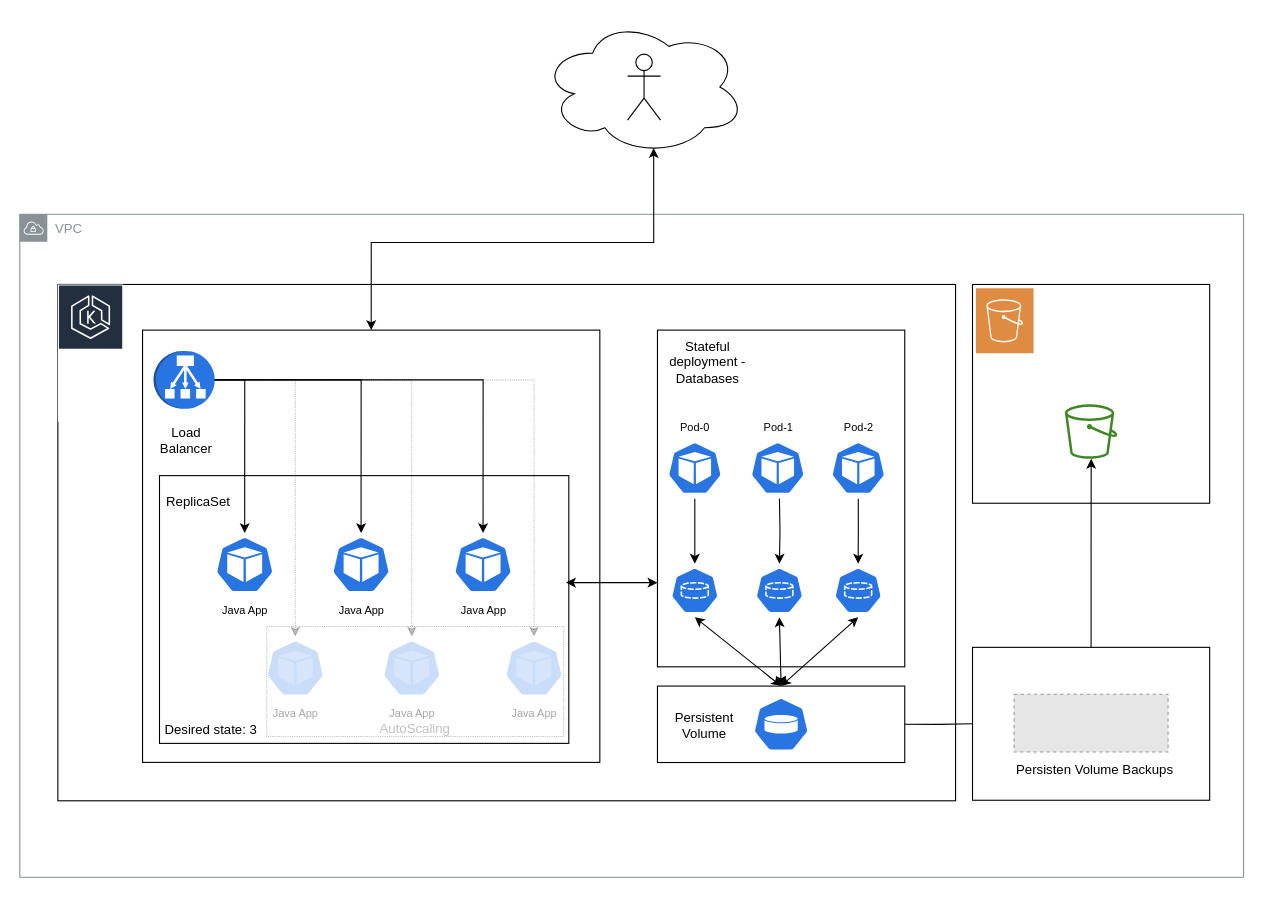
This 1263x897 diagram has some shape labels left out. Grey dashed boxes stand in for pictures. Each missing label, with the centre of its shape:
Amazon EKS: (90,352)
Bucket: (1090,431)
S3: (1004,320)
User: (643,86)
